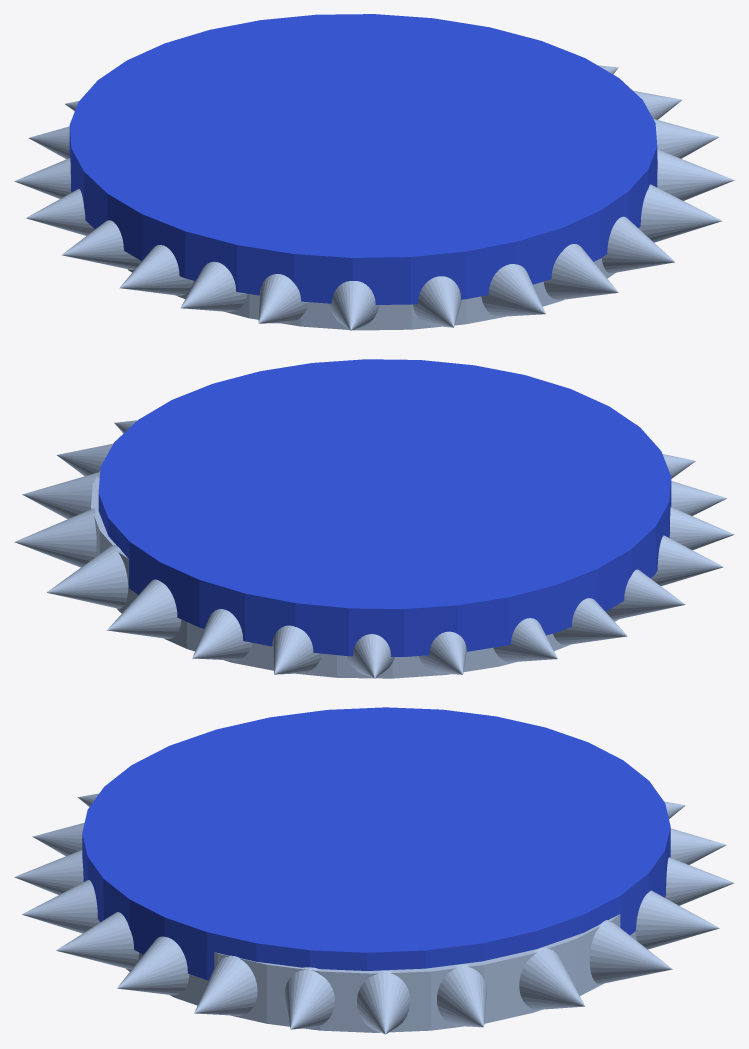
File: Gun model.fbx
3 views of the same model, one above another, from view 1: azimuth 30°, elevation 25°; view 2: azimuth 150°, elevation 25°; view 3: azimuth 270°, elevation 25° (orthographic).
Visible parts, largest first — view 1: Cone.008; view 2: Cone.008; view 3: Cone.008.
Boxes of the visible parts, <box> form: Cone.008: <box>14,14,734,330</box>; Cone.008: <box>14,359,734,678</box>; Cone.008: <box>14,707,734,1034</box>.
Bounding box in the file's own units: 2215 × 263 × 2209.
